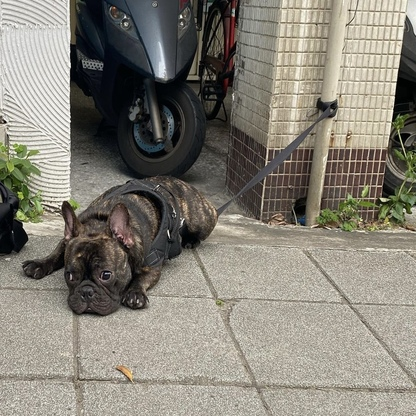bulldog: (20, 170, 222, 318)
